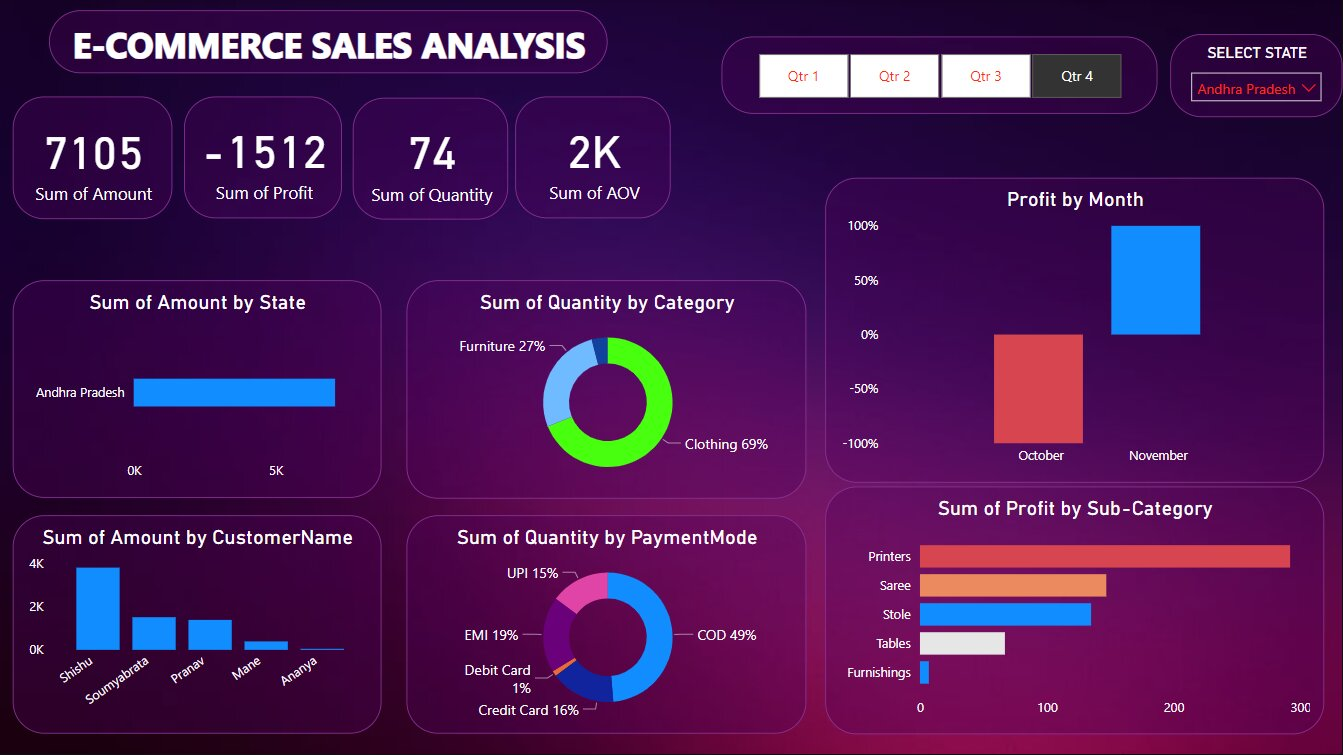

The page's visual inventory and layout, read from the dashboard file:
{"tool":"powerbi","page":{"name":"Page 1","canvas":[1280,720],"ordinal":0},"visuals":[{"type":"textbox","title":"E-COMMERCE SALES ANALYSIS","box":[47,10.9,531.9,60.3],"z":0},{"type":"hundredPercentStackedColumnChart","title":"Profit by Month","fields":{"Category":["Orders.Order Date.Variation.Date Hierarchy.Month"],"Y":["Sum(Details.Profit)"]},"box":[786.3,170.1,475.2,290.7],"z":1000},{"type":"barChart","fields":{"Category":["Details.Sub-Category"],"Y":["Sum(Details.Profit)"]},"box":[786.3,464.3,475.2,236.4],"z":2000},{"type":"donutChart","fields":{"Category":["Details.Category"],"Y":["Sum(Details.Quantity)"]},"box":[388,267.4,381.2,208.4],"z":3000},{"type":"donutChart","fields":{"Y":["Sum(Details.Quantity)"],"Series":["Details.PaymentMode"]},"box":[388,492.2,381.2,208.4],"z":4000},{"type":"card","fields":{"Values":["Sum(Details.Amount)"]},"box":[13.3,92.9,152,117],"z":5000},{"type":"card","fields":{"Values":["Sum(Details.Profit)"]},"box":[176.1,92.9,150.8,115.8],"z":6000},{"type":"card","fields":{"Values":["Sum(Details.Quantity)"]},"box":[336.5,94.1,148.3,115.8],"z":7000},{"type":"barChart","fields":{"Category":["Orders.State"],"Y":["Sum(Details.Amount)"]},"box":[13.3,267.7,351,207.4],"z":8000},{"type":"columnChart","fields":{"Y":["Sum(Details.Amount)"],"Category":["Orders.CustomerName"]},"box":[13,492,351,208],"z":9000},{"type":"card","fields":{"Values":["Sum(Details.Column)"]},"box":[492.1,92.9,148.3,115.8],"z":10000},{"type":"slicer","fields":{"Values":["Orders.aov.Variation.Date Hierarchy.Quarter"]},"box":[688.6,36.2,414.9,73.6],"z":11000},{"type":"slicer","title":"SELECT STATE","fields":{"Values":["Orders.State"]},"box":[1115.6,33.8,164,79.6],"z":12000}]}

Visuals, with their boxes in screenshot pixels (x1, y1, x2, y2), scaled from the page's 1280x720 canvas onto the 1343x755 screenshot:
"E-COMMERCE SALES ANALYSIS" textbox: rect(49, 11, 607, 75)
"Profit by Month" hundredPercentStackedColumnChart: rect(825, 178, 1324, 483)
barChart - Details.Sub-Category x Sum(Details.Profit): rect(825, 487, 1324, 735)
donutChart - Details.Category x Sum(Details.Quantity): rect(407, 280, 807, 499)
donutChart - Sum(Details.Quantity) x Details.PaymentMode: rect(407, 516, 807, 735)
card - Sum(Details.Amount): rect(14, 97, 173, 220)
card - Sum(Details.Profit): rect(185, 97, 343, 219)
card - Sum(Details.Quantity): rect(353, 99, 509, 220)
barChart - Orders.State x Sum(Details.Amount): rect(14, 281, 382, 498)
columnChart - Sum(Details.Amount) x Orders.CustomerName: rect(14, 516, 382, 734)
card - Sum(Details.Column): rect(516, 97, 672, 219)
slicer - Orders.aov.Variation.Date Hierarchy.Quarter: rect(722, 38, 1158, 115)
"SELECT STATE" slicer: rect(1171, 35, 1342, 119)
